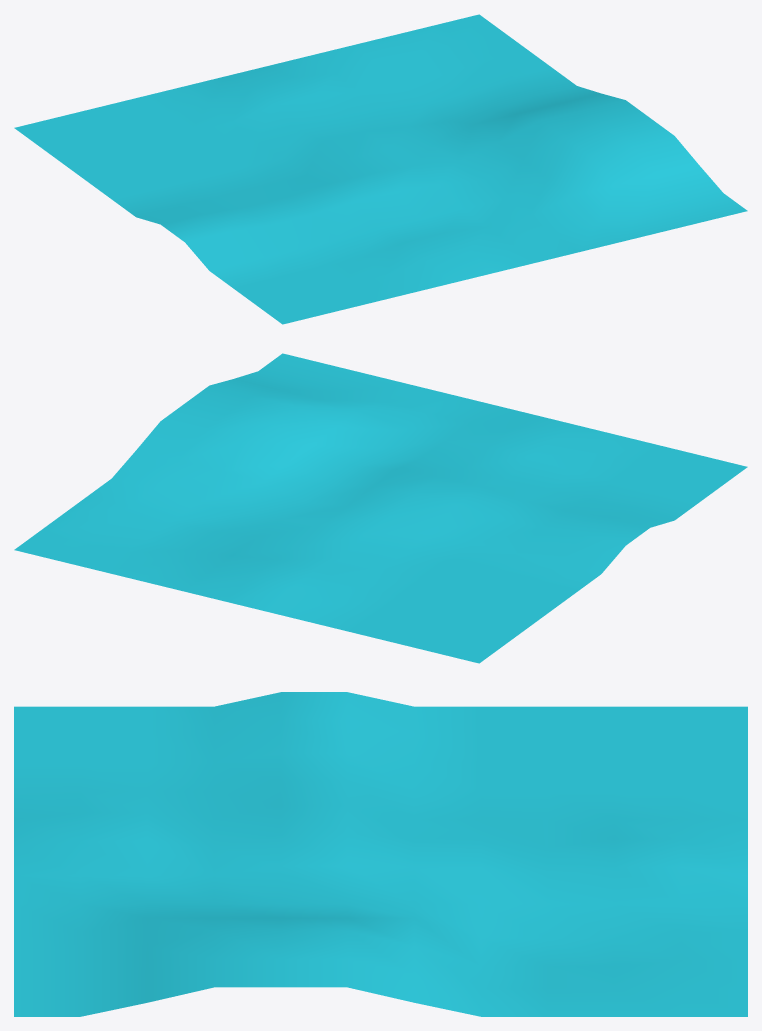
The model's file is rainwater.gltf.
3 views of the same model, one above another, from view 1: azimuth 30°, elevation 25°; view 2: azimuth 150°, elevation 25°; view 3: azimuth 270°, elevation 25° (orthographic). The views are drawn at different scales.
Parts seen in each view (by area): view 1: Rain; view 2: Rain; view 3: Rain.
Part boxes in pixels (x1=…): Rain: x1=14, y1=14, x2=747, y2=324; Rain: x1=14, y1=353, x2=747, y2=663; Rain: x1=14, y1=692, x2=747, y2=1016.
Bounding box in the file's own units: 157 × 8.34 × 157.
